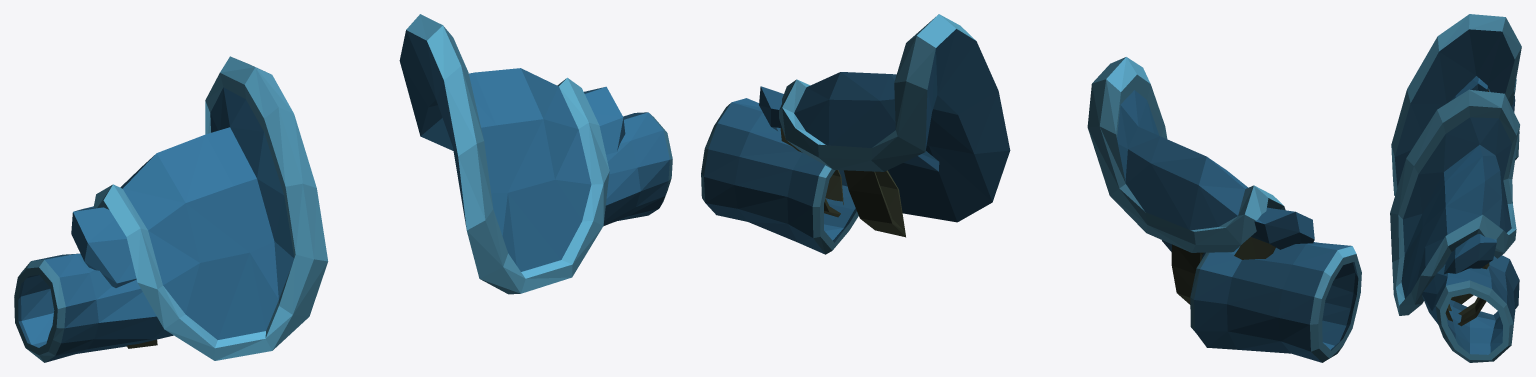
File: rune_shoulders.glb
3 views of the same model, side by side, from view 1: azimuth 30°, elevation 25°; view 2: azimuth 150°, elevation 25°; view 3: azimuth 270°, elevation 25° (orthographic). The views are drawn at different scales.
Visible parts, largest first — view 1: rune_shoulders; view 2: rune_shoulders; view 3: rune_shoulders.
Boxes of the visible parts, left/top/right/bottom form: rune_shoulders: left=14, top=14, right=672, bottom=362; rune_shoulders: left=701, top=14, right=1361, bottom=362; rune_shoulders: left=1390, top=14, right=1521, bottom=362.
Bounding box in the file's own units: 1 × 0.3922 × 0.2322.
